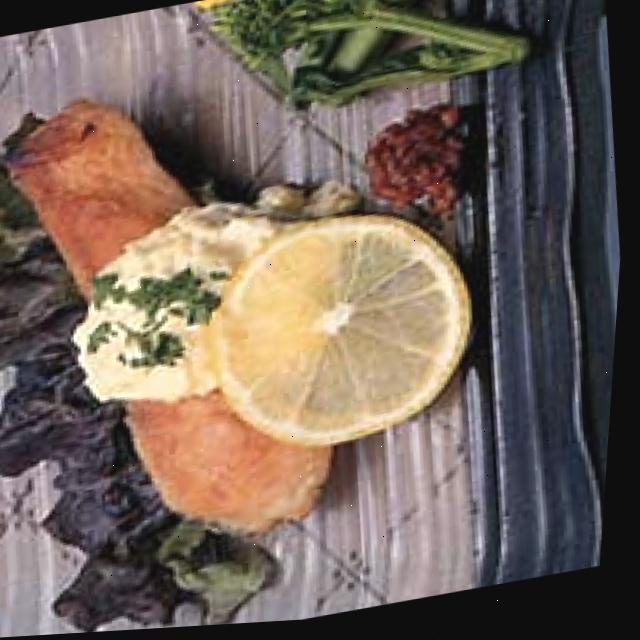熟制海鲜: (0, 50, 510, 617)
